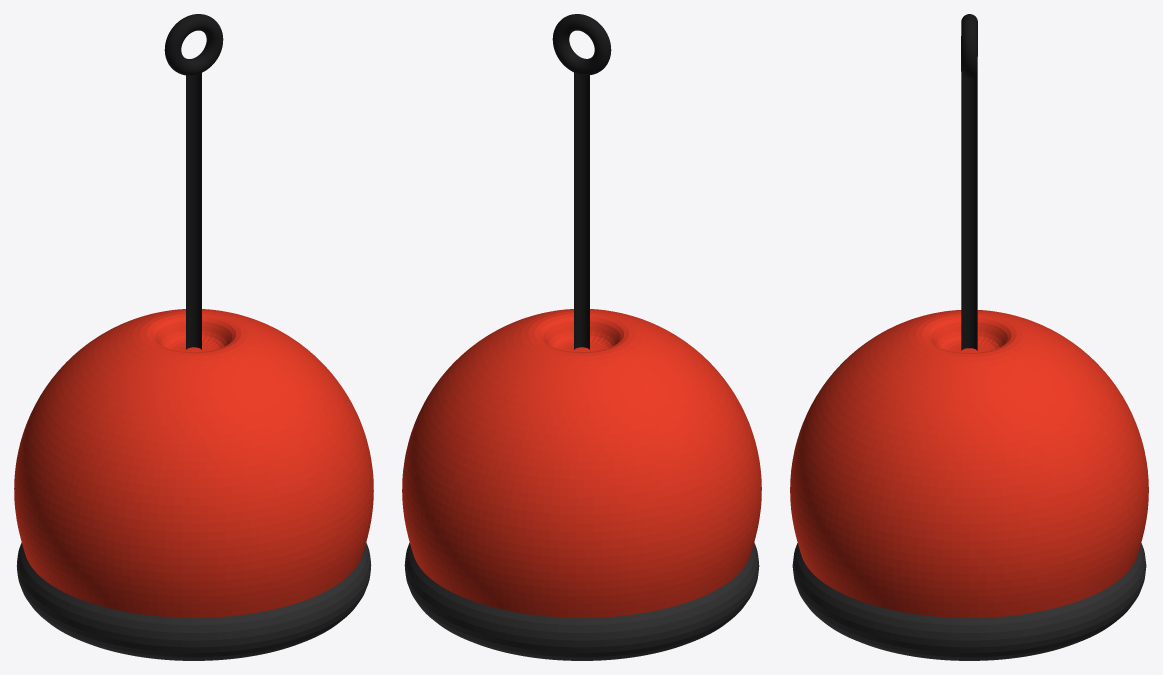
File: bouy.fbx
3 renders of one model, left to right at view 1: azimuth 30°, elevation 25°; view 2: azimuth 150°, elevation 25°; view 3: azimuth 270°, elevation 25°, orthographic.
Visible parts, largest first — view 1: Sphere, Torus, Circle, Torus.001; view 2: Sphere, Torus, Circle, Torus.001; view 3: Sphere, Torus, Circle, Torus.001.
Boxes of the visible parts, bbox=[...] form: Sphere: bbox=[14, 309, 373, 617]; Torus: bbox=[16, 542, 371, 660]; Circle: bbox=[186, 73, 201, 349]; Torus.001: bbox=[164, 14, 223, 75]; Sphere: bbox=[402, 309, 761, 617]; Torus: bbox=[404, 542, 759, 660]; Circle: bbox=[574, 72, 589, 349]; Torus.001: bbox=[552, 14, 611, 75]; Sphere: bbox=[790, 310, 1148, 617]; Torus: bbox=[792, 543, 1146, 660]; Circle: bbox=[961, 72, 977, 350]; Torus.001: bbox=[961, 14, 977, 78].
Bounding box in the file's own units: 88.57 × 158 × 88.57.
